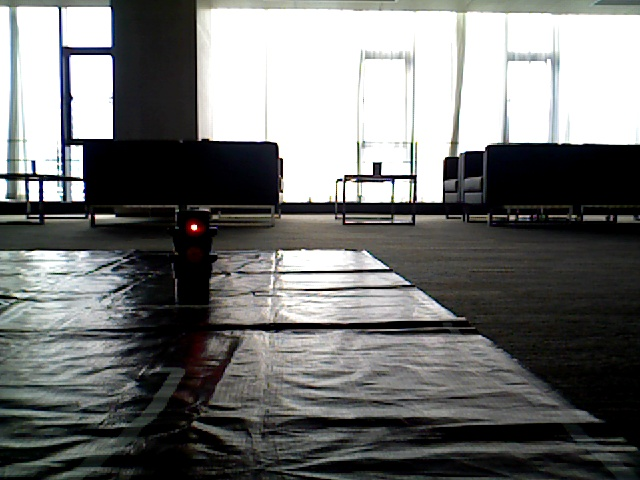red: (177, 204, 208, 292)
